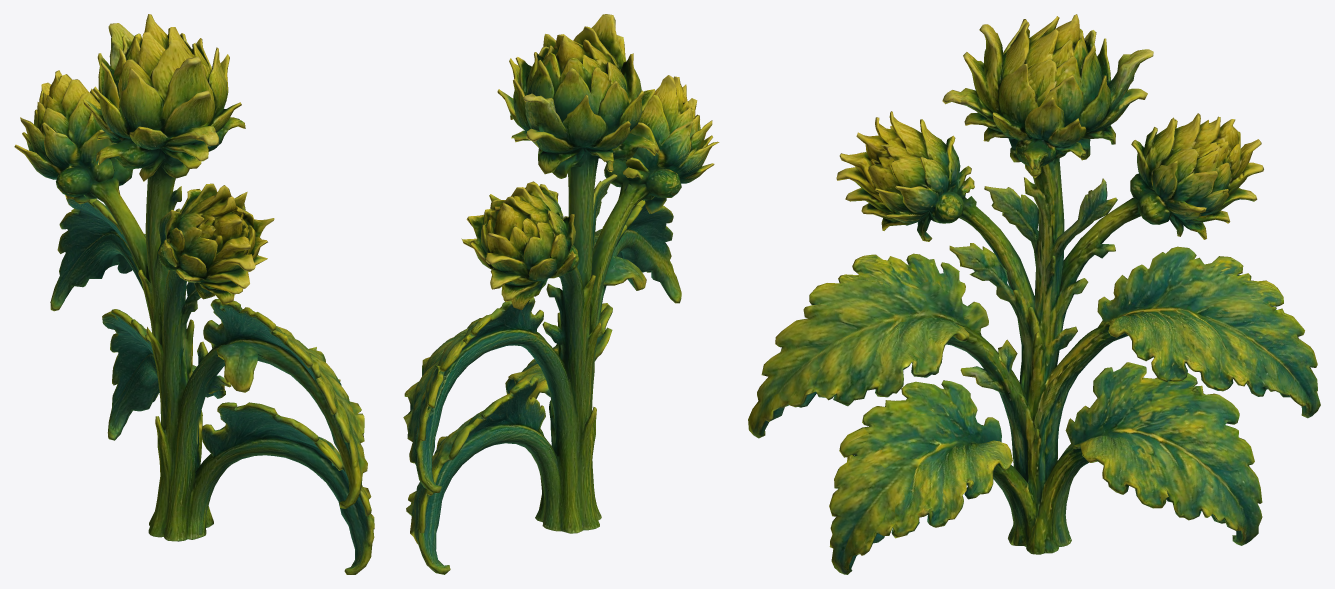
Rendered from artichoke+plant+3d+model+1k.glb.
3 renders of one model, left to right at view 1: azimuth 30°, elevation 25°; view 2: azimuth 150°, elevation 25°; view 3: azimuth 270°, elevation 25°, orthographic. The views are drawn at different scales.
Parts seen in each view (by area): view 1: tripo_node_10050bd1-b938-4d02-9b05-643b5d0453cd; view 2: tripo_node_10050bd1-b938-4d02-9b05-643b5d0453cd; view 3: tripo_node_10050bd1-b938-4d02-9b05-643b5d0453cd.
Part boxes in pixels (bbox=[...]): tripo_node_10050bd1-b938-4d02-9b05-643b5d0453cd: bbox=[14, 14, 374, 574]; tripo_node_10050bd1-b938-4d02-9b05-643b5d0453cd: bbox=[403, 14, 719, 574]; tripo_node_10050bd1-b938-4d02-9b05-643b5d0453cd: bbox=[748, 14, 1320, 574].
Bounding box in the file's own units: 0.4161 × 0.998 × 1.
1 material, 1 textured.
